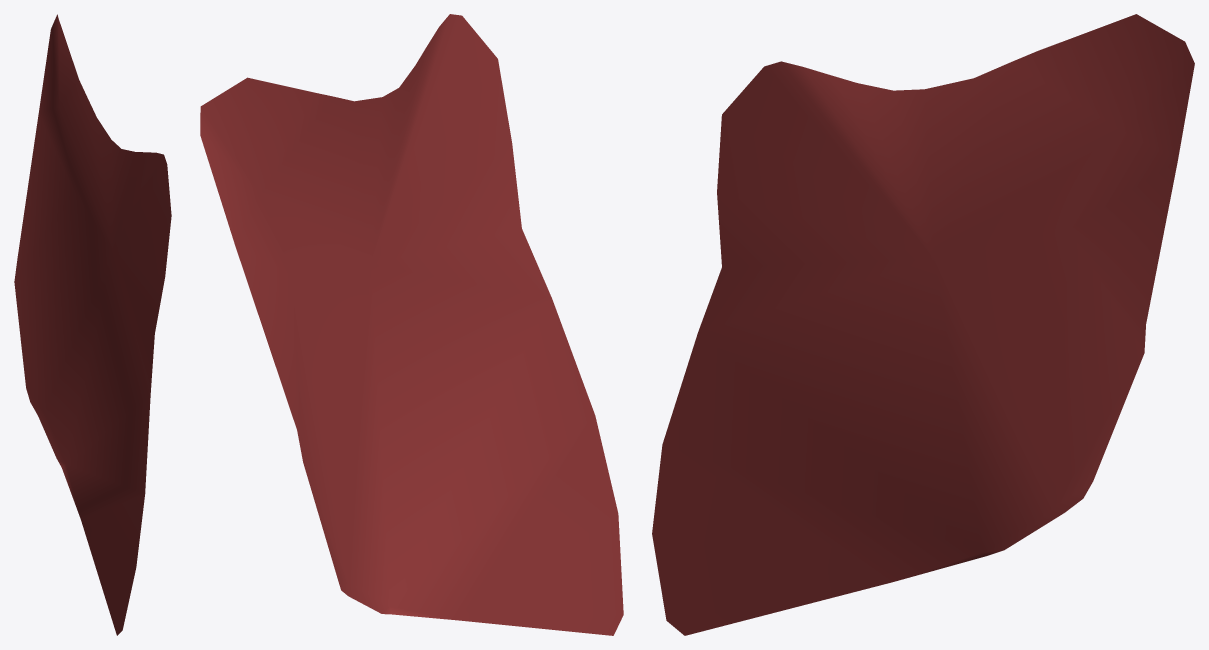
The model's file is masseter-el.glb.
The picture shows the model from 3 angles, left to right: view 1: azimuth 30°, elevation 25°; view 2: azimuth 150°, elevation 25°; view 3: azimuth 270°, elevation 25°; orthographic projection. The views are drawn at different scales.
Parts seen in each view (by area): view 1: Masseter.el; view 2: Masseter.el; view 3: Masseter.el.
Boxes of the visible parts, x1,y1,x2,y2 form: Masseter.el: (14,14,171,635); Masseter.el: (200,14,623,635); Masseter.el: (652,14,1194,635).
Bounding box in the file's own units: 0.0128 × 0.051 × 0.0363.
